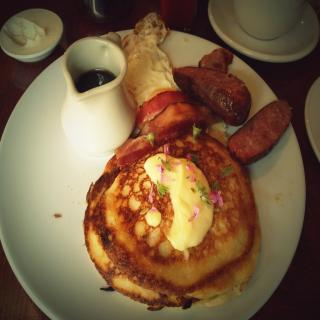Pancake: (84, 138, 258, 318)
